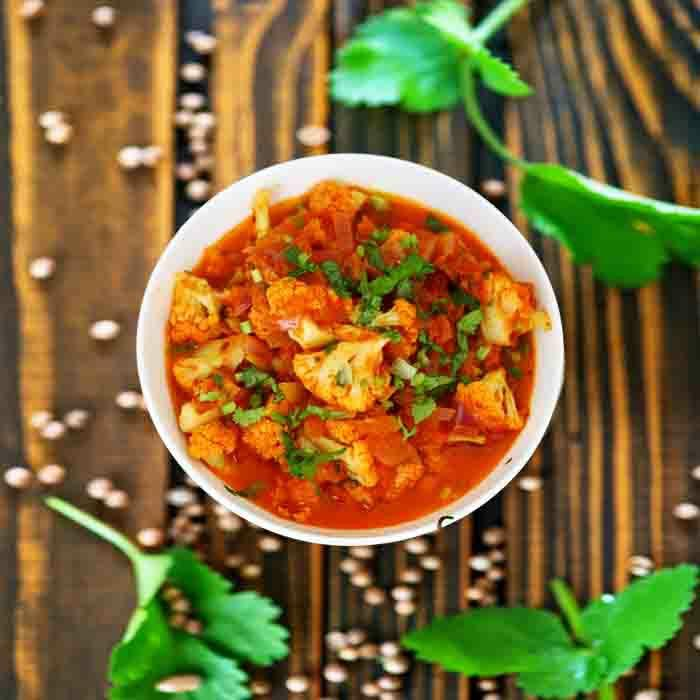AlooGobi: (165, 180, 553, 526)
